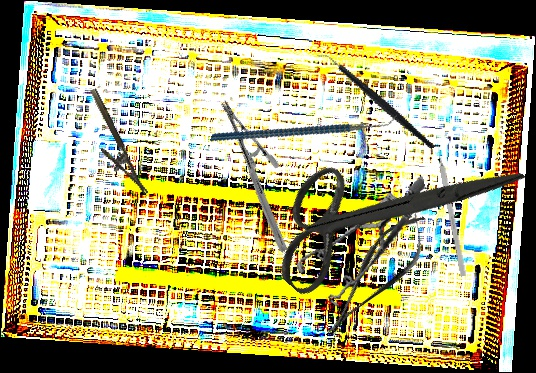Chopper: (209, 66, 399, 187), (315, 26, 436, 177)
Hook Surgical: (434, 141, 467, 277)
Iris Scissors: (246, 68, 528, 358)
Micro Scissor: (309, 202, 443, 348)
Needle Holder: (172, 99, 336, 254), (75, 87, 149, 204)
Speculum: (284, 175, 445, 314)
